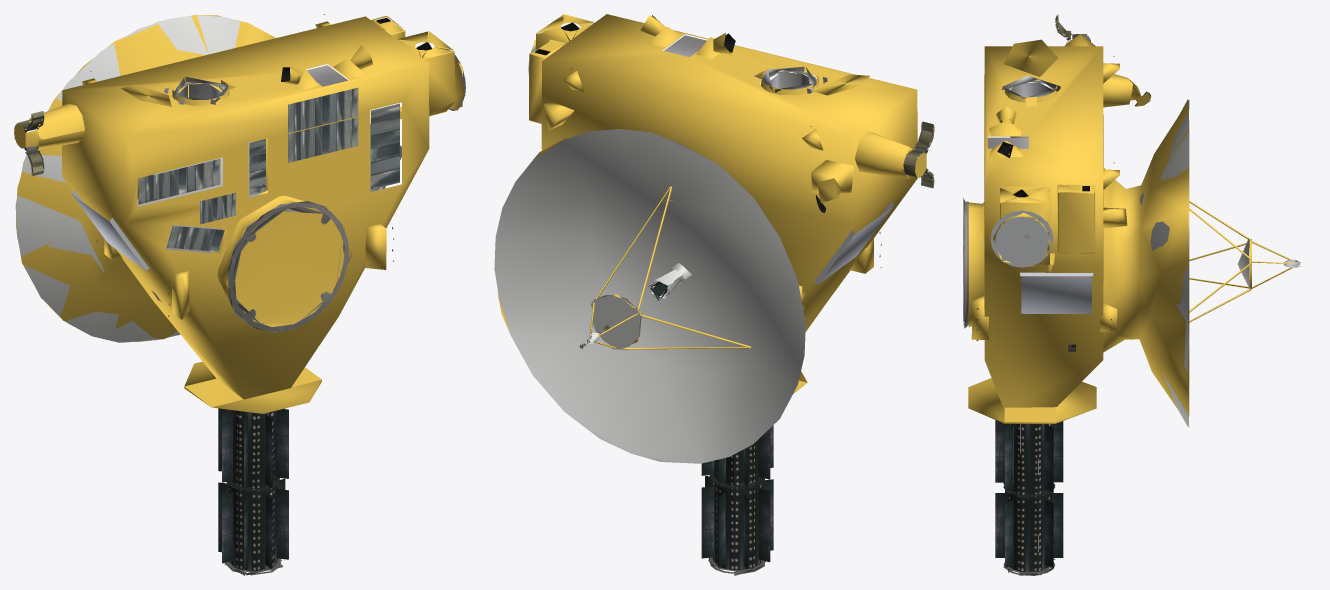
Rendered from newhorizons_lod2.glb.
3 renders of one model, left to right at view 1: azimuth 30°, elevation 25°; view 2: azimuth 150°, elevation 25°; view 3: azimuth 270°, elevation 25°, orthographic. The views are drawn at different scales.
Visible parts, largest first — view 1: newhorizons_lod2; view 2: newhorizons_lod2; view 3: newhorizons_lod2.
Part boxes in pixels (box(x1,y1,x2,y2)): newhorizons_lod2: box(14, 14, 465, 575); newhorizons_lod2: box(494, 14, 934, 575); newhorizons_lod2: box(963, 14, 1300, 575).
Size of the model in its own units: 2.76 by 3.31 by 2.25.
5 materials, 2 textured.
